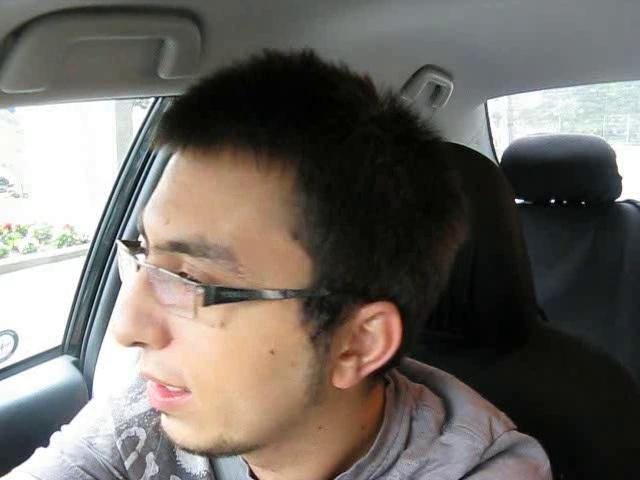no_yawn: (120, 359, 213, 422)
open_eyeR: (159, 242, 231, 304)
